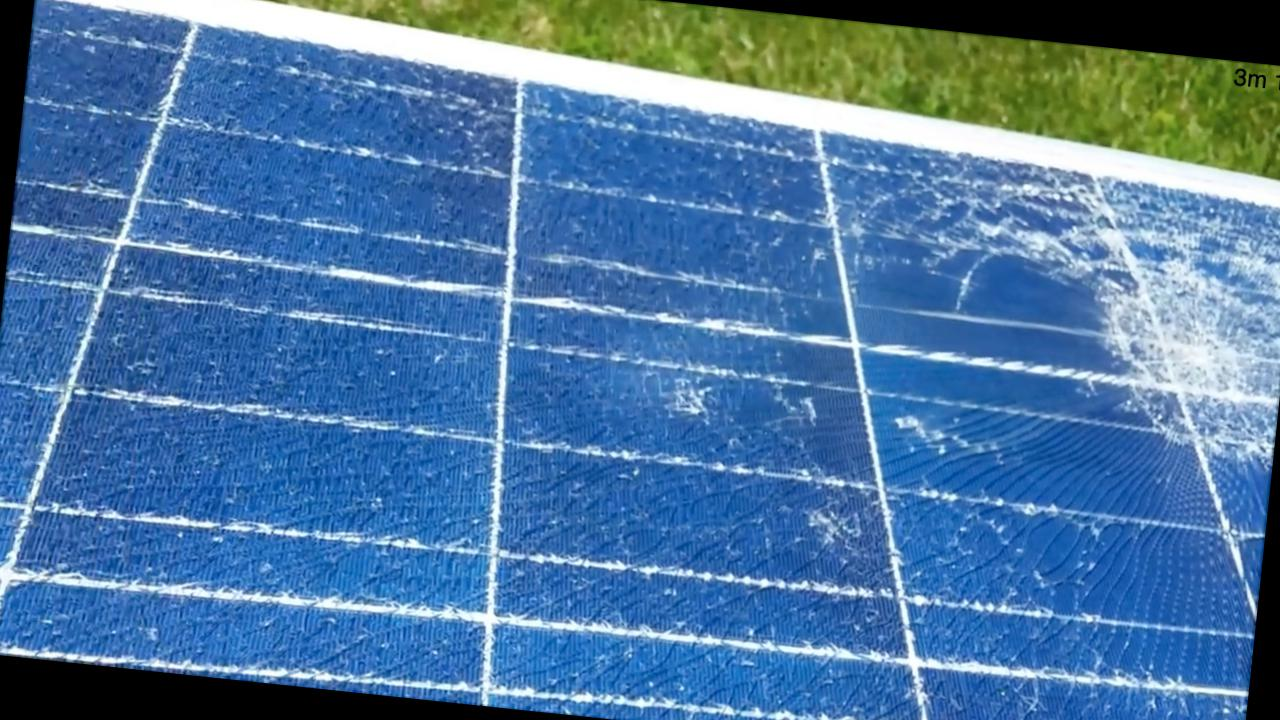Crack: (1016, 175, 1279, 523)
